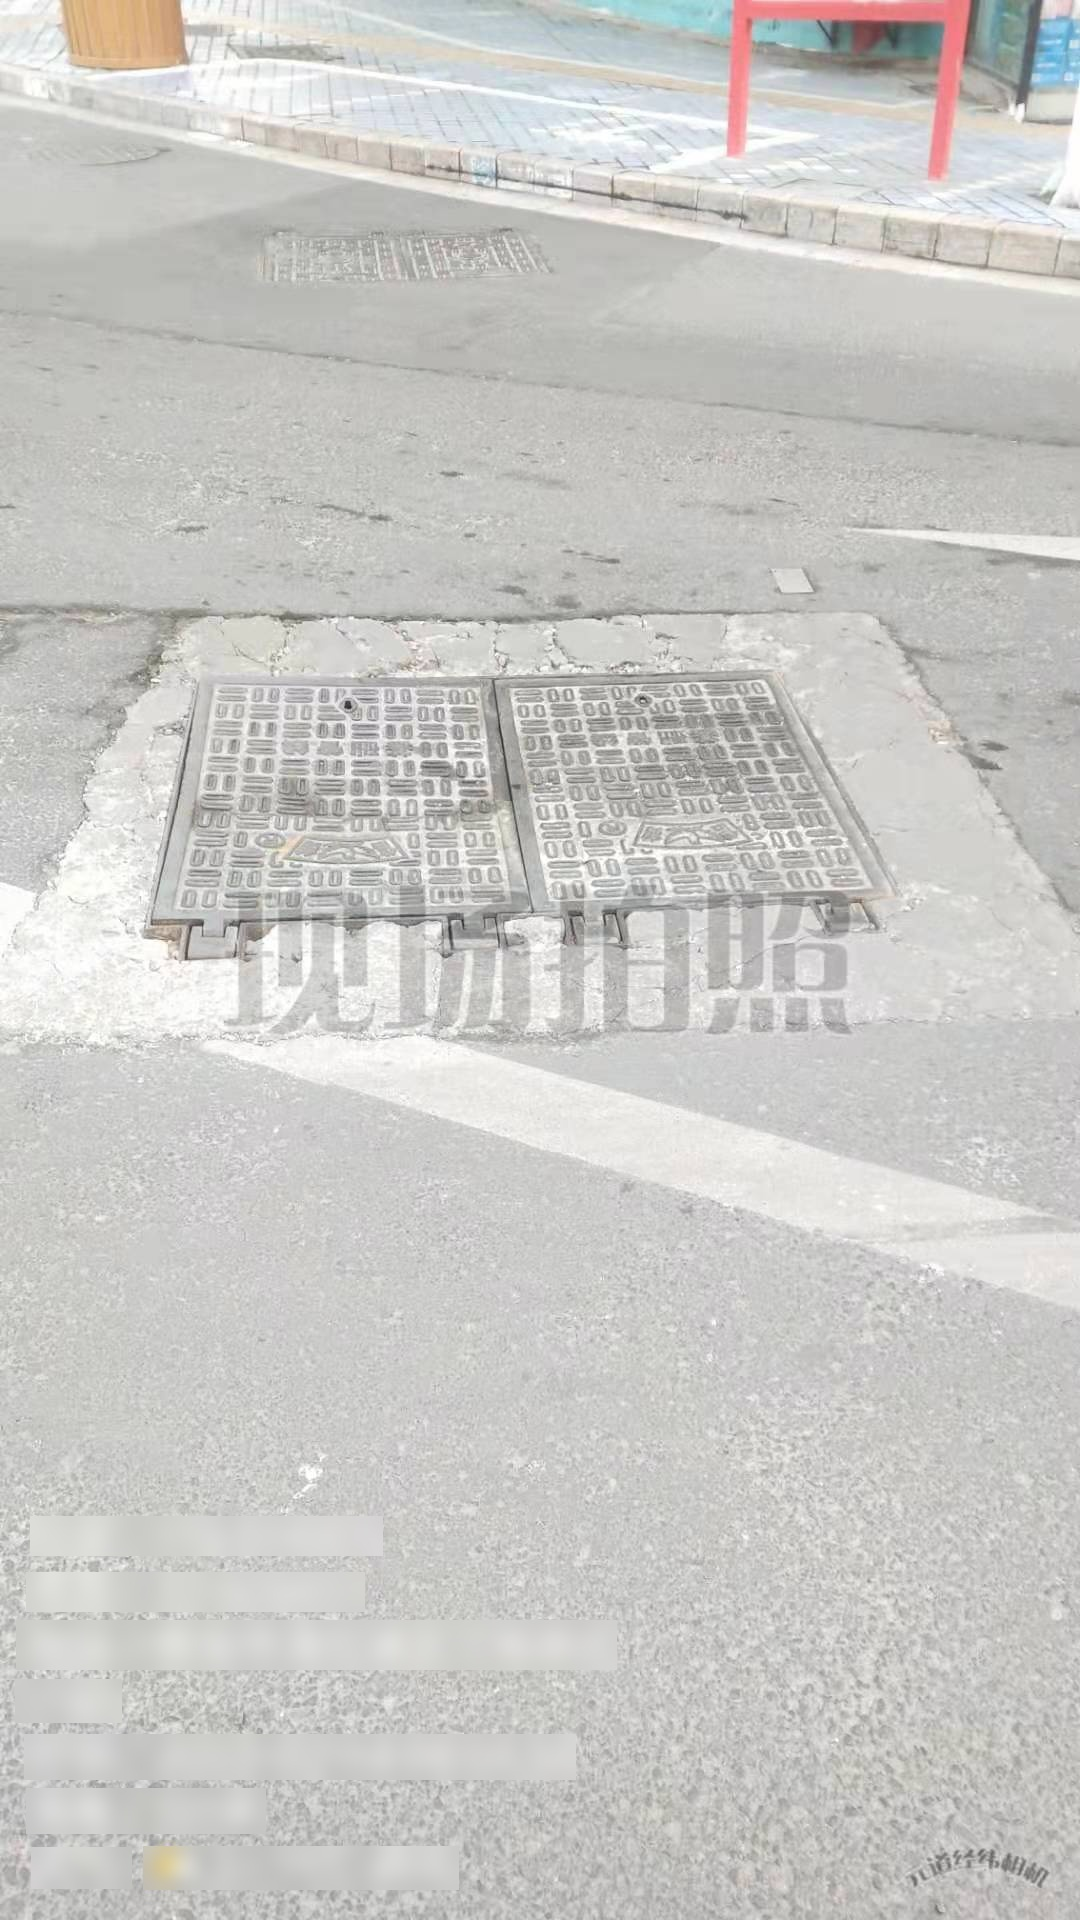good: (141, 673, 899, 967)
